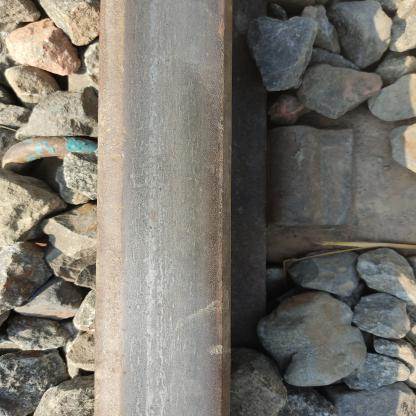Defective 1: (155, 240, 306, 380)
